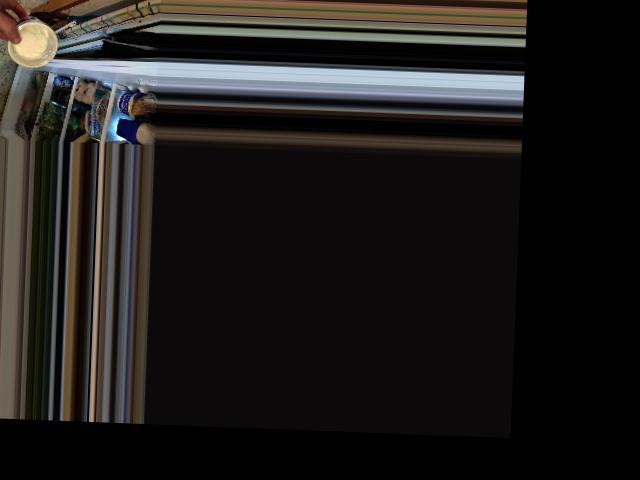cotage: (3, 12, 58, 64)
